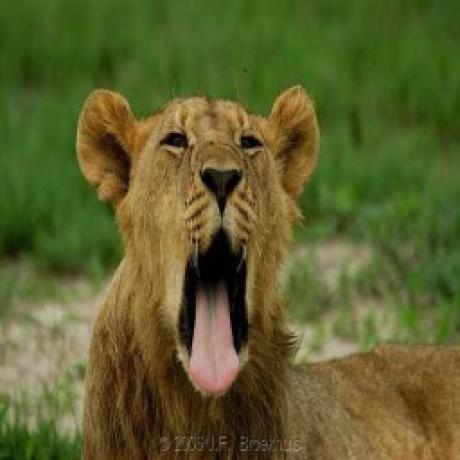Lion: (73, 79, 460, 458)
